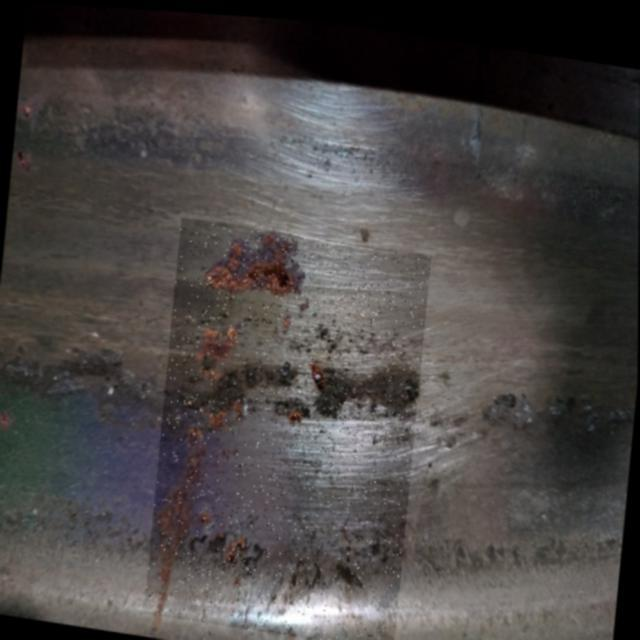Blue hole: (145, 214, 335, 306)
